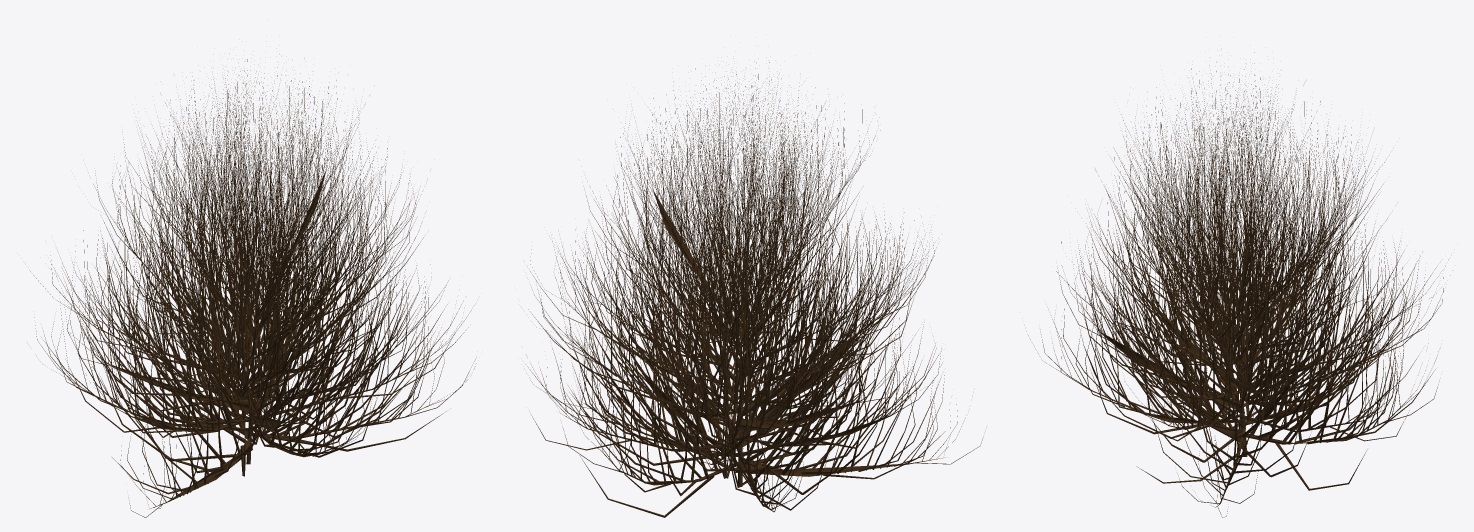
File: woodland-bush.glb
The picture shows the model from 3 angles, left to right: view 1: azimuth 30°, elevation 25°; view 2: azimuth 150°, elevation 25°; view 3: azimuth 270°, elevation 25°; orthographic projection. The views are drawn at different scales.
Visible parts, largest first — view 1: tree; view 2: tree; view 3: tree.
Boxes of the visible parts, <box> form: tree: <box>30,59,476,517</box>; tree: <box>527,58,983,517</box>; tree: <box>1028,52,1450,517</box>.
Bounding box in the file's own units: 1.52 × 1.6 × 1.46.
